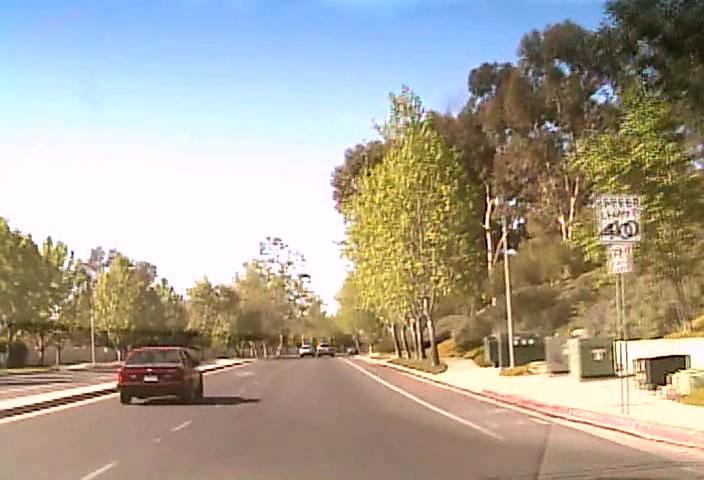speedLimit40: (597, 194, 642, 244)
